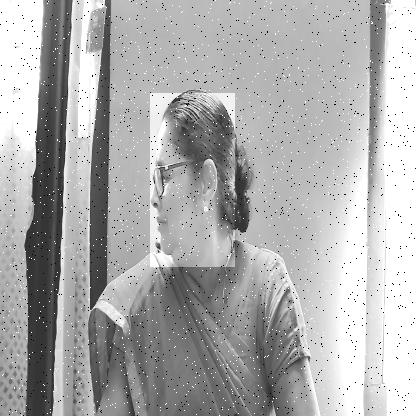Distracted: (150, 93, 235, 267)
